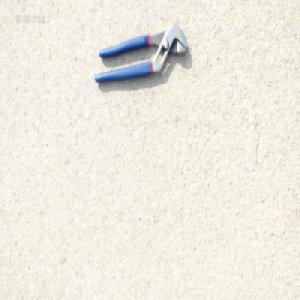Pliers: (93, 24, 189, 85)
